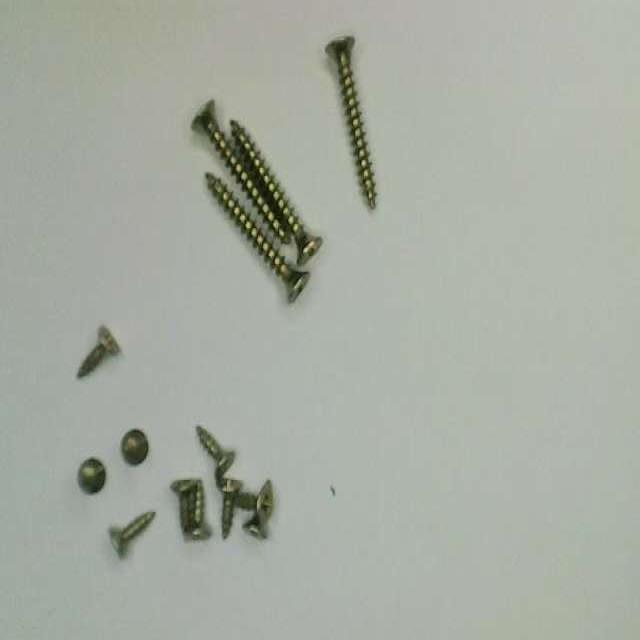Parafuso: (191, 100, 288, 243), (205, 173, 309, 301), (231, 120, 321, 264), (325, 36, 375, 208), (77, 325, 120, 376), (111, 511, 154, 556), (236, 480, 274, 530), (197, 425, 233, 475), (171, 479, 194, 535), (189, 480, 210, 539), (221, 477, 241, 537), (121, 429, 148, 464), (78, 457, 105, 492), (243, 512, 266, 539)
